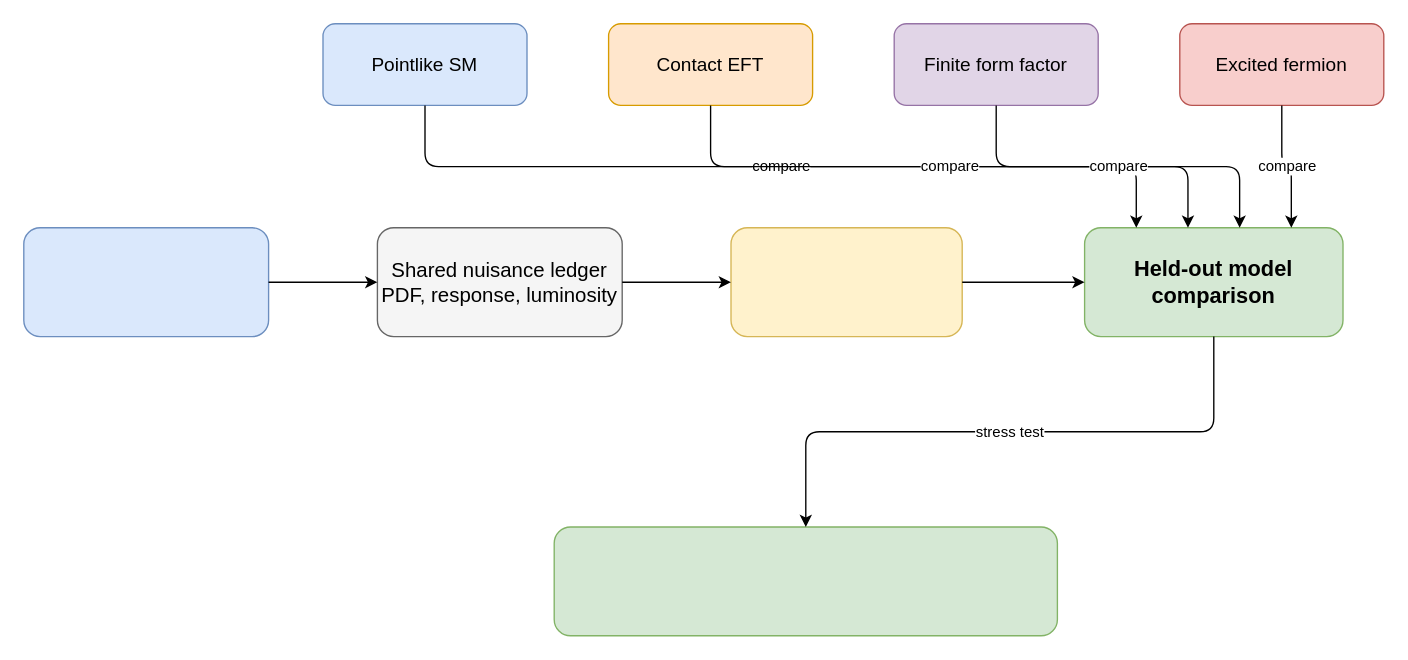
This 1408x660 diagram has some shape labels left out. The centre of each missing label's shape, as x and y in pixels:
EFT validity gate cutoff and order tests: (x=846, y=281)
Permitted conclusions preference, constraint, ambiguity, or non-identifiability: (x=805, y=581)
Versioned channel inputs Q bins, angles, selections: (x=145, y=281)
